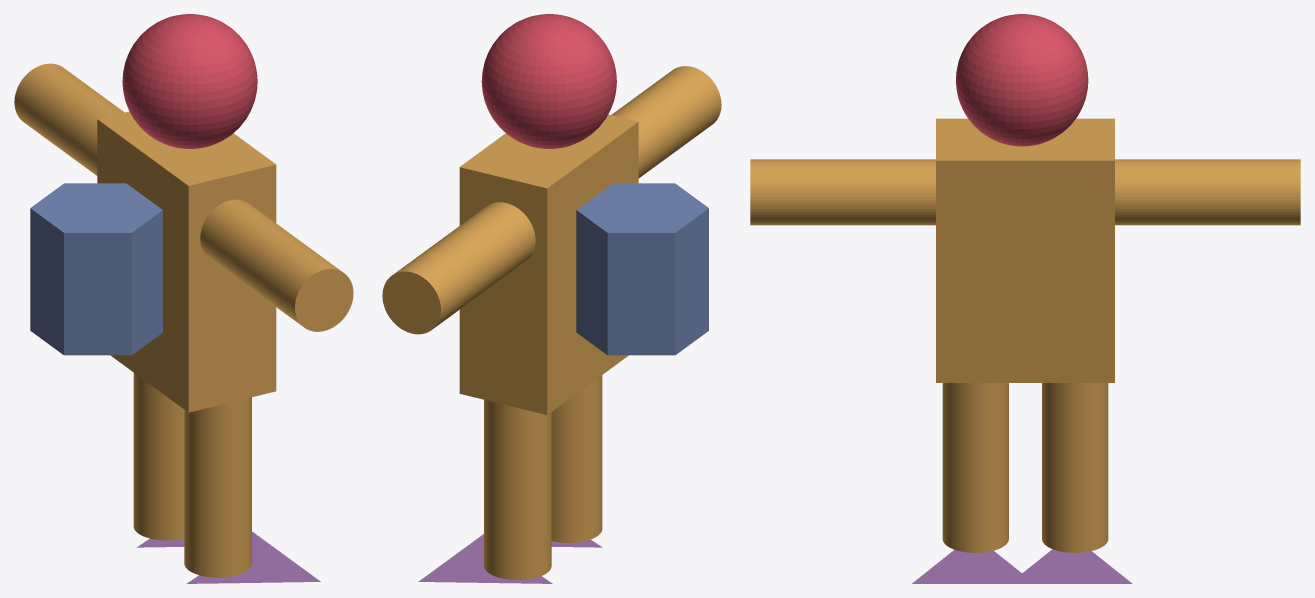
The model's file is Scuba Diver.glb.
The picture shows the model from 3 angles, left to right: view 1: azimuth 30°, elevation 25°; view 2: azimuth 150°, elevation 25°; view 3: azimuth 270°, elevation 25°; orthographic projection.
Parts seen in each view (by area): view 1: Mesh_Mesh_head_geo.001_lambert2SG.001; view 2: Mesh_Mesh_head_geo.001_lambert2SG.001; view 3: Mesh_Mesh_head_geo.001_lambert2SG.001.
Part boxes in pixels (box(x1,y1,x2,y2)): Mesh_Mesh_head_geo.001_lambert2SG.001: box(14, 14, 353, 583); Mesh_Mesh_head_geo.001_lambert2SG.001: box(382, 14, 721, 583); Mesh_Mesh_head_geo.001_lambert2SG.001: box(750, 14, 1300, 583).
Bounding box in the file's own units: 37.16 × 88 × 83.
